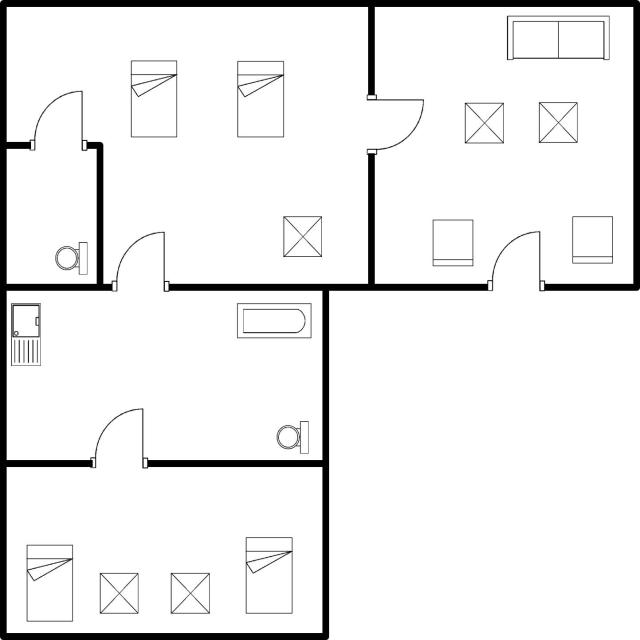bed: (124, 55, 181, 142), (232, 56, 288, 140), (241, 534, 295, 621), (24, 540, 76, 625)
coffee_table: (94, 569, 142, 620), (533, 99, 581, 148), (166, 568, 213, 618), (460, 97, 506, 148), (278, 212, 325, 260)
large_sink: (49, 235, 90, 281), (271, 415, 312, 456)
large_sofa: (502, 12, 614, 68)
sink: (8, 299, 44, 369)
small_sofa: (428, 214, 478, 271), (569, 211, 618, 269)
tub: (232, 297, 314, 343)
